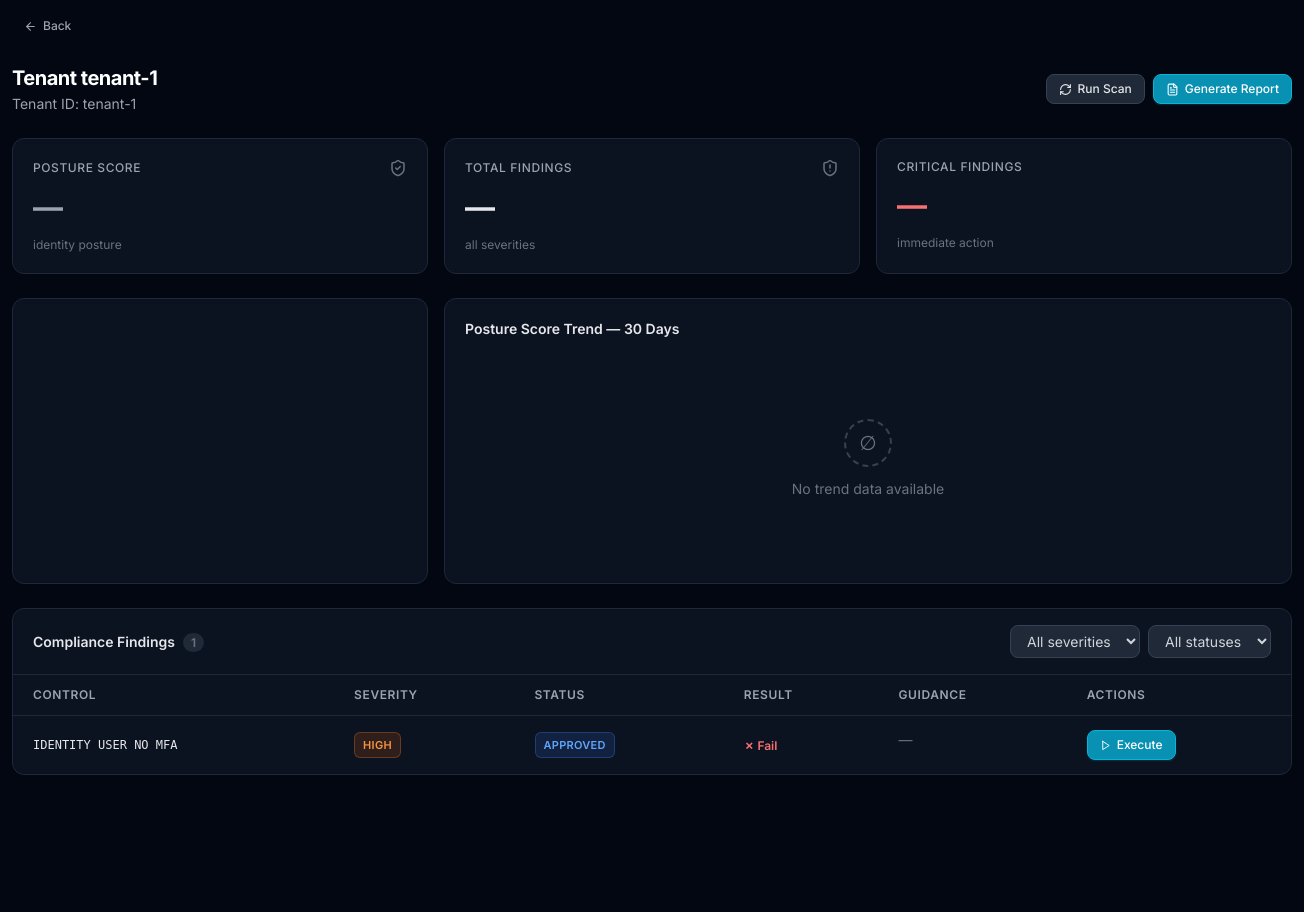
Test: shows the error when execute throws
Click the button "Execute" at [1131, 745], box left=1087, top=730, right=1176, bottom=760
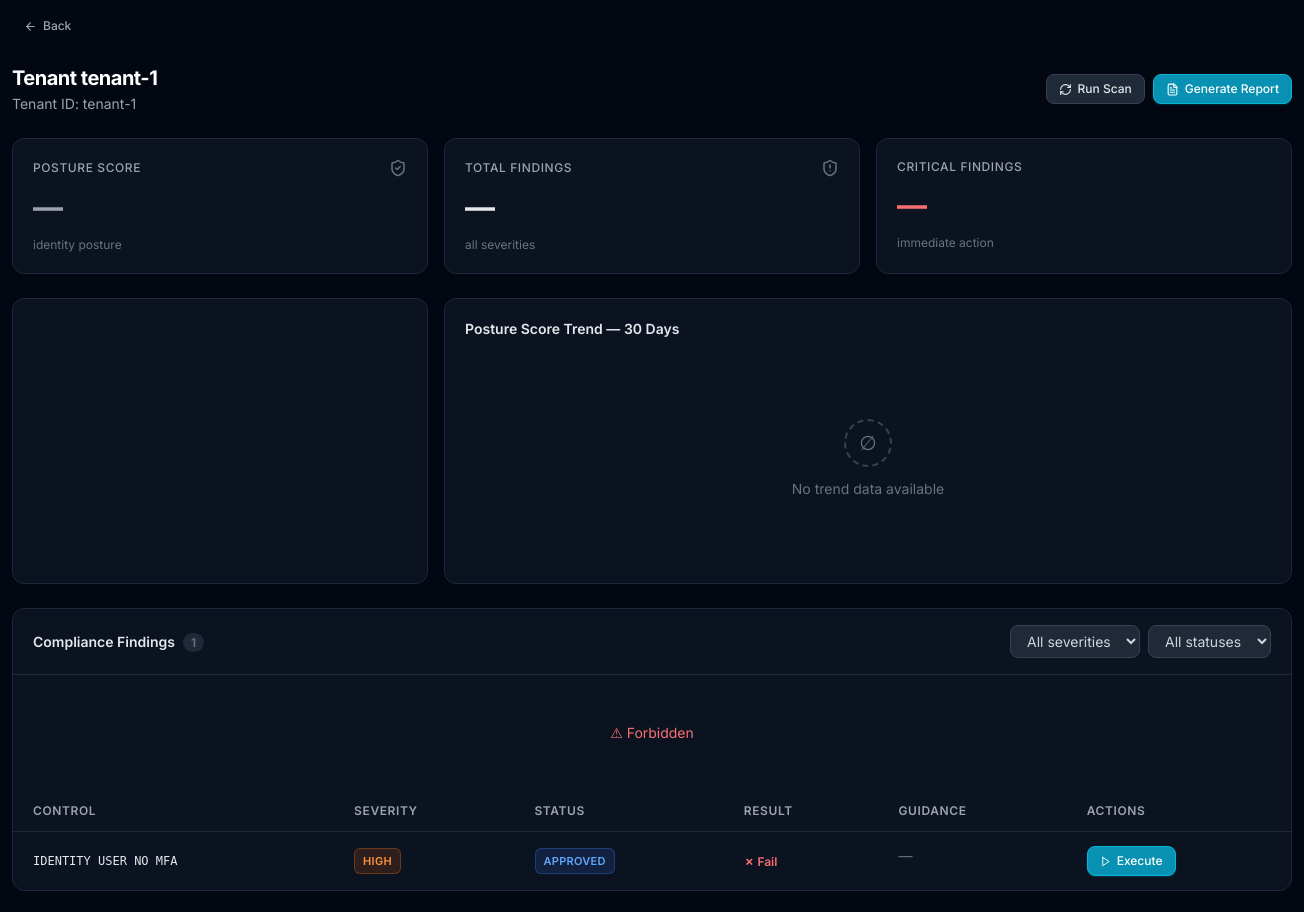
Result: the text "⚠ Forbidden" is shown at left=610, top=723, right=694, bottom=743
